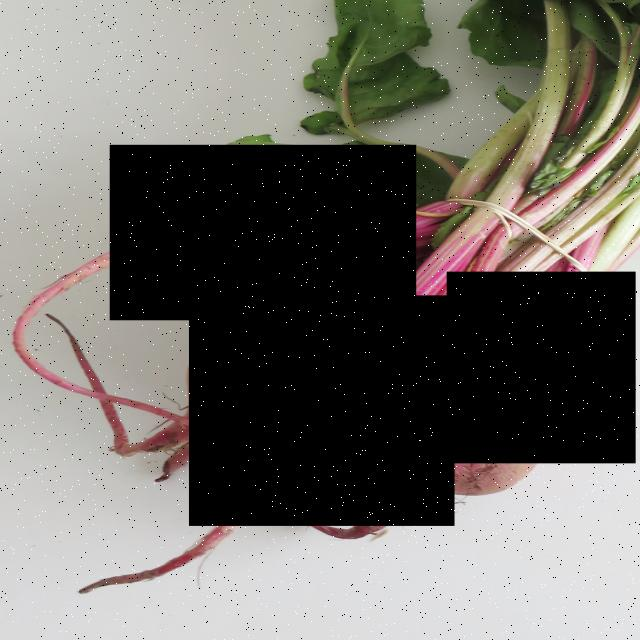Beetroot: (190, 295, 455, 526), (110, 145, 416, 320), (448, 272, 636, 464)
